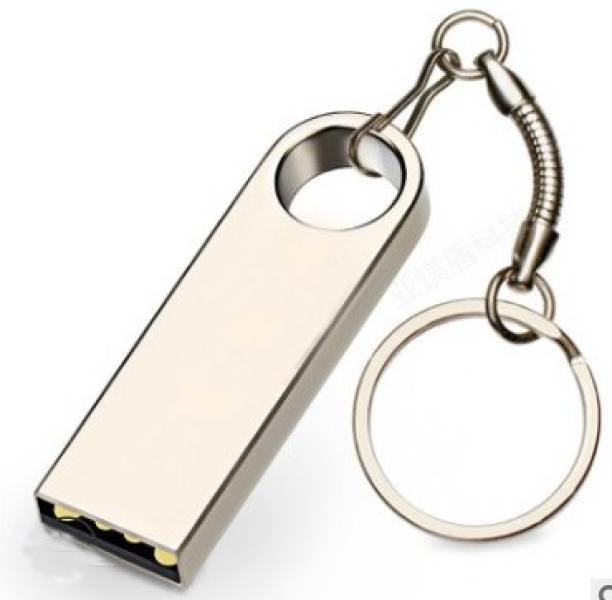pendrive: (36, 12, 566, 583)
